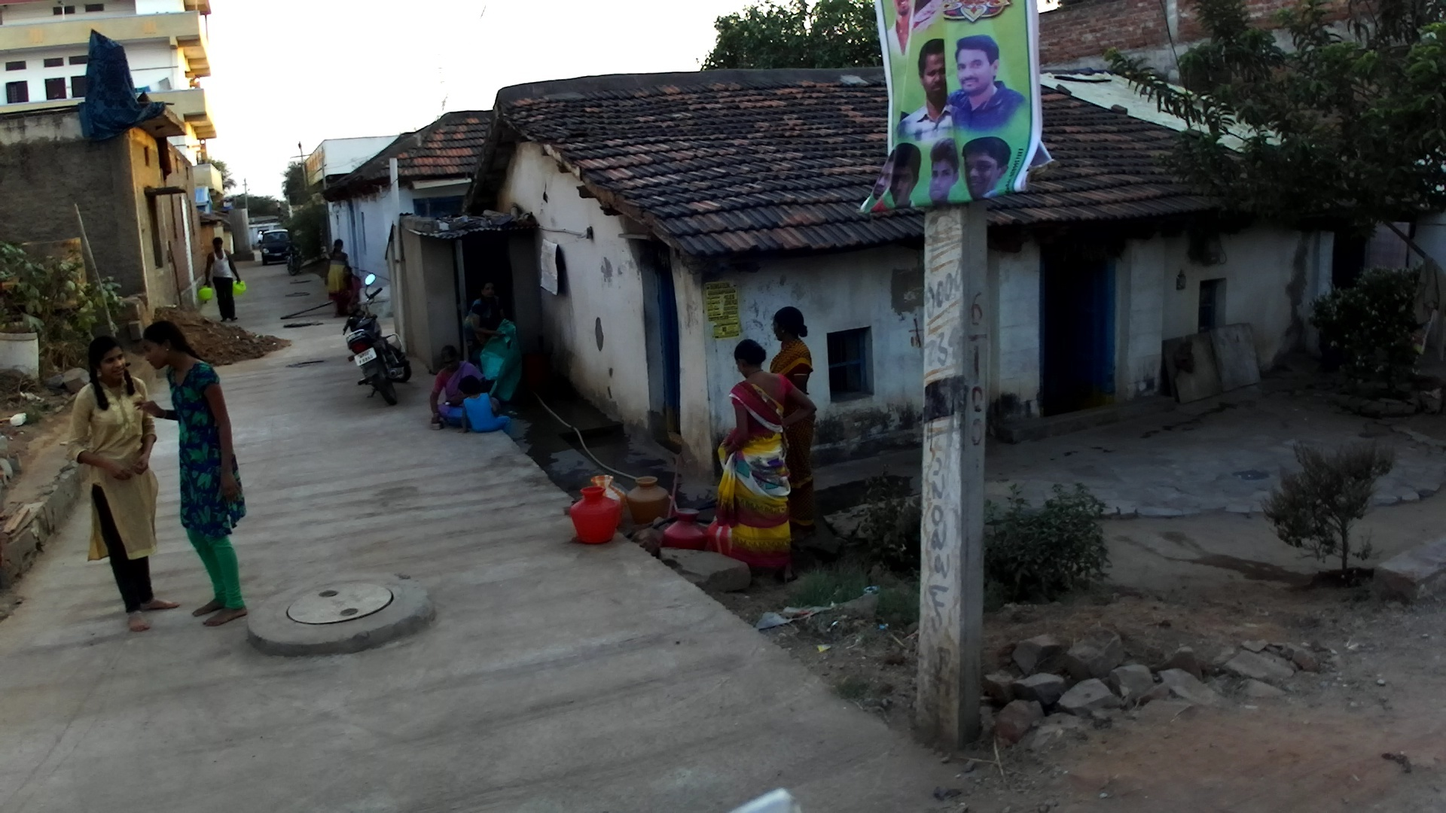car: (256, 228, 294, 266)
motorcycle: (341, 273, 413, 407), (282, 241, 303, 277)
person: (132, 319, 249, 628), (66, 334, 182, 635), (715, 338, 816, 587), (769, 306, 817, 542), (429, 344, 499, 429), (197, 237, 247, 323), (463, 279, 506, 373), (456, 375, 512, 439), (322, 239, 349, 318), (335, 265, 362, 317)
